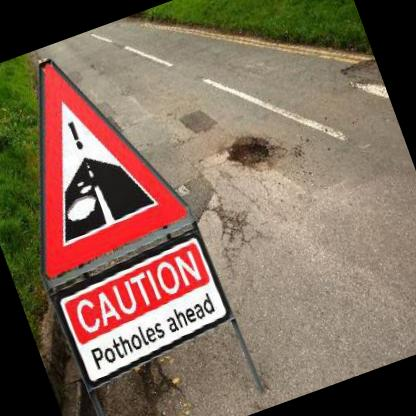pothole: (221, 124, 284, 179)
